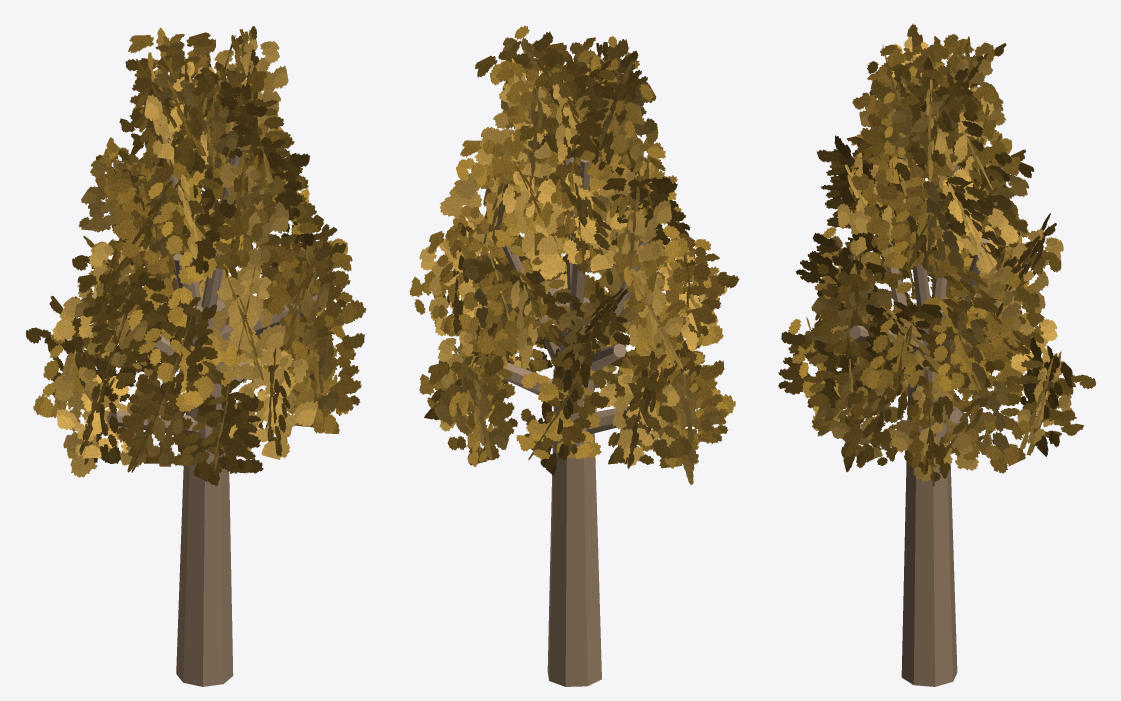
File: Pine_Yellow.glb
3 renders of one model, left to right at view 1: azimuth 30°, elevation 25°; view 2: azimuth 150°, elevation 25°; view 3: azimuth 270°, elevation 25°, orthographic.
Parts seen in each view (by area): view 1: Trunk, FoliageCard_16_00, FoliageCard_24_00, FoliageCard_17_03, FoliageCard_05_03, FoliageCard_07_02, FoliageCard_25_00, FoliageCard_18_00, FoliageCard_08_03, FoliageCard_17_00, FoliageCard_18_03, FoliageCard_09_03 (+62 smaller); view 2: Trunk, FoliageCard_22_01, FoliageCard_02_01, FoliageCard_03_01, FoliageCard_04_00, FoliageCard_14_01, FoliageCard_05_01, FoliageCard_30_00, FoliageCard_03_00, FoliageCard_04_01, FoliageCard_23_00, FoliageCard_15_00 (+63 smaller); view 3: Trunk, FoliageCard_19_03, FoliageCard_01_02, FoliageCard_00_02, FoliageCard_28_02, FoliageCard_02_02, FoliageCard_10_02, FoliageCard_35_01, FoliageCard_18_03, FoliageCard_20_03, FoliageCard_10_03, FoliageCard_29_02 (+61 smaller).
Part boxes in pixels (box(x1,y1,x2,y2)): Trunk: box(176, 298, 233, 686); FoliageCard_16_00: box(128, 286, 239, 411); FoliageCard_24_00: box(107, 163, 191, 274); FoliageCard_17_03: box(196, 277, 285, 380); FoliageCard_05_03: box(53, 366, 144, 477); FoliageCard_07_02: box(187, 370, 259, 485); FoliageCard_25_00: box(147, 169, 243, 284); FoliageCard_18_00: box(263, 245, 352, 337); FoliageCard_08_03: box(228, 348, 317, 459); FoliageCard_17_00: box(203, 276, 282, 378); FoliageCard_18_03: box(260, 242, 346, 342); FoliageCard_09_03: box(283, 324, 364, 427); Trunk: box(547, 297, 601, 686); FoliageCard_22_01: box(536, 172, 627, 279); FoliageCard_02_01: box(428, 355, 517, 465); FoliageCard_03_01: box(516, 366, 601, 459); FoliageCard_04_00: box(592, 354, 692, 464); FoliageCard_14_01: box(609, 253, 694, 369); FoliageCard_05_01: box(631, 358, 727, 468); FoliageCard_30_00: box(535, 47, 614, 158); FoliageCard_03_00: box(520, 350, 609, 455); FoliageCard_04_01: box(599, 374, 681, 466); FoliageCard_23_00: box(597, 168, 671, 261); FoliageCard_15_00: box(645, 233, 739, 337); Trunk: box(901, 303, 957, 686); FoliageCard_19_03: box(860, 282, 942, 392); FoliageCard_01_02: box(923, 343, 1030, 471); FoliageCard_00_02: box(890, 386, 978, 481); FoliageCard_28_02: box(875, 159, 969, 279); FoliageCard_02_02: box(1000, 360, 1095, 437); FoliageCard_10_02: box(914, 297, 1004, 388); FoliageCard_35_01: box(905, 57, 977, 170); FoliageCard_18_03: box(814, 269, 900, 354); FoliageCard_20_03: box(942, 169, 1018, 273); FoliageCard_10_03: box(932, 298, 990, 391); FoliageCard_29_02: box(925, 86, 1020, 188).
Bounding box in the file's own units: 4.12 × 8.35 × 3.97.
5 materials, 3 textured.
